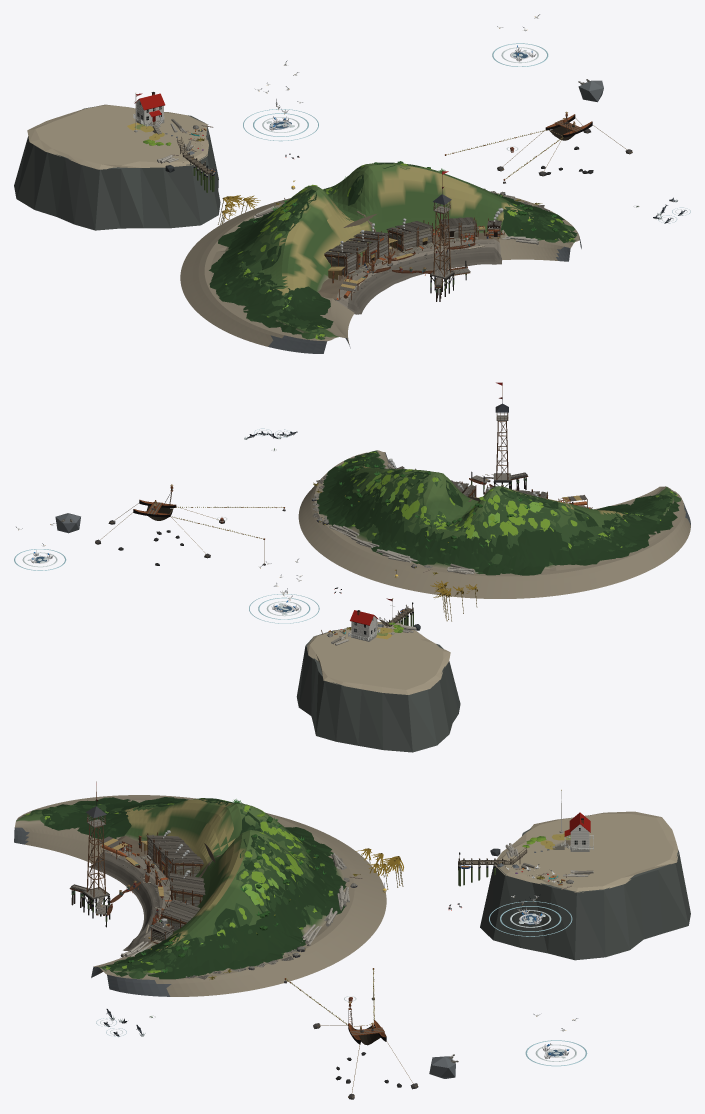
Rendered from chunk_0_0.glb.
3 views of the same model, one above another, from view 1: azimuth 30°, elevation 25°; view 2: azimuth 150°, elevation 25°; view 3: azimuth 270°, elevation 25° (orthographic). The views are drawn at different scales.
Visible parts, largest first — view 1: chunk_0_0; view 2: chunk_0_0; view 3: chunk_0_0.
Part boxes in pixels (x1,y1,x2,y2): chunk_0_0: (14,14,690,353); chunk_0_0: (14,382,690,752); chunk_0_0: (14,781,690,1099).
Bounding box in the file's own units: 156 × 46.7 × 158.
